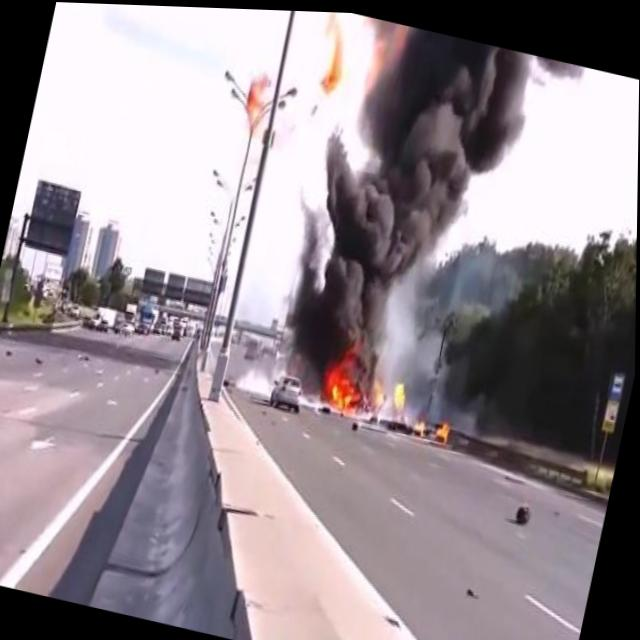fire: (312, 350, 417, 429), (432, 411, 457, 443), (410, 410, 431, 440)
